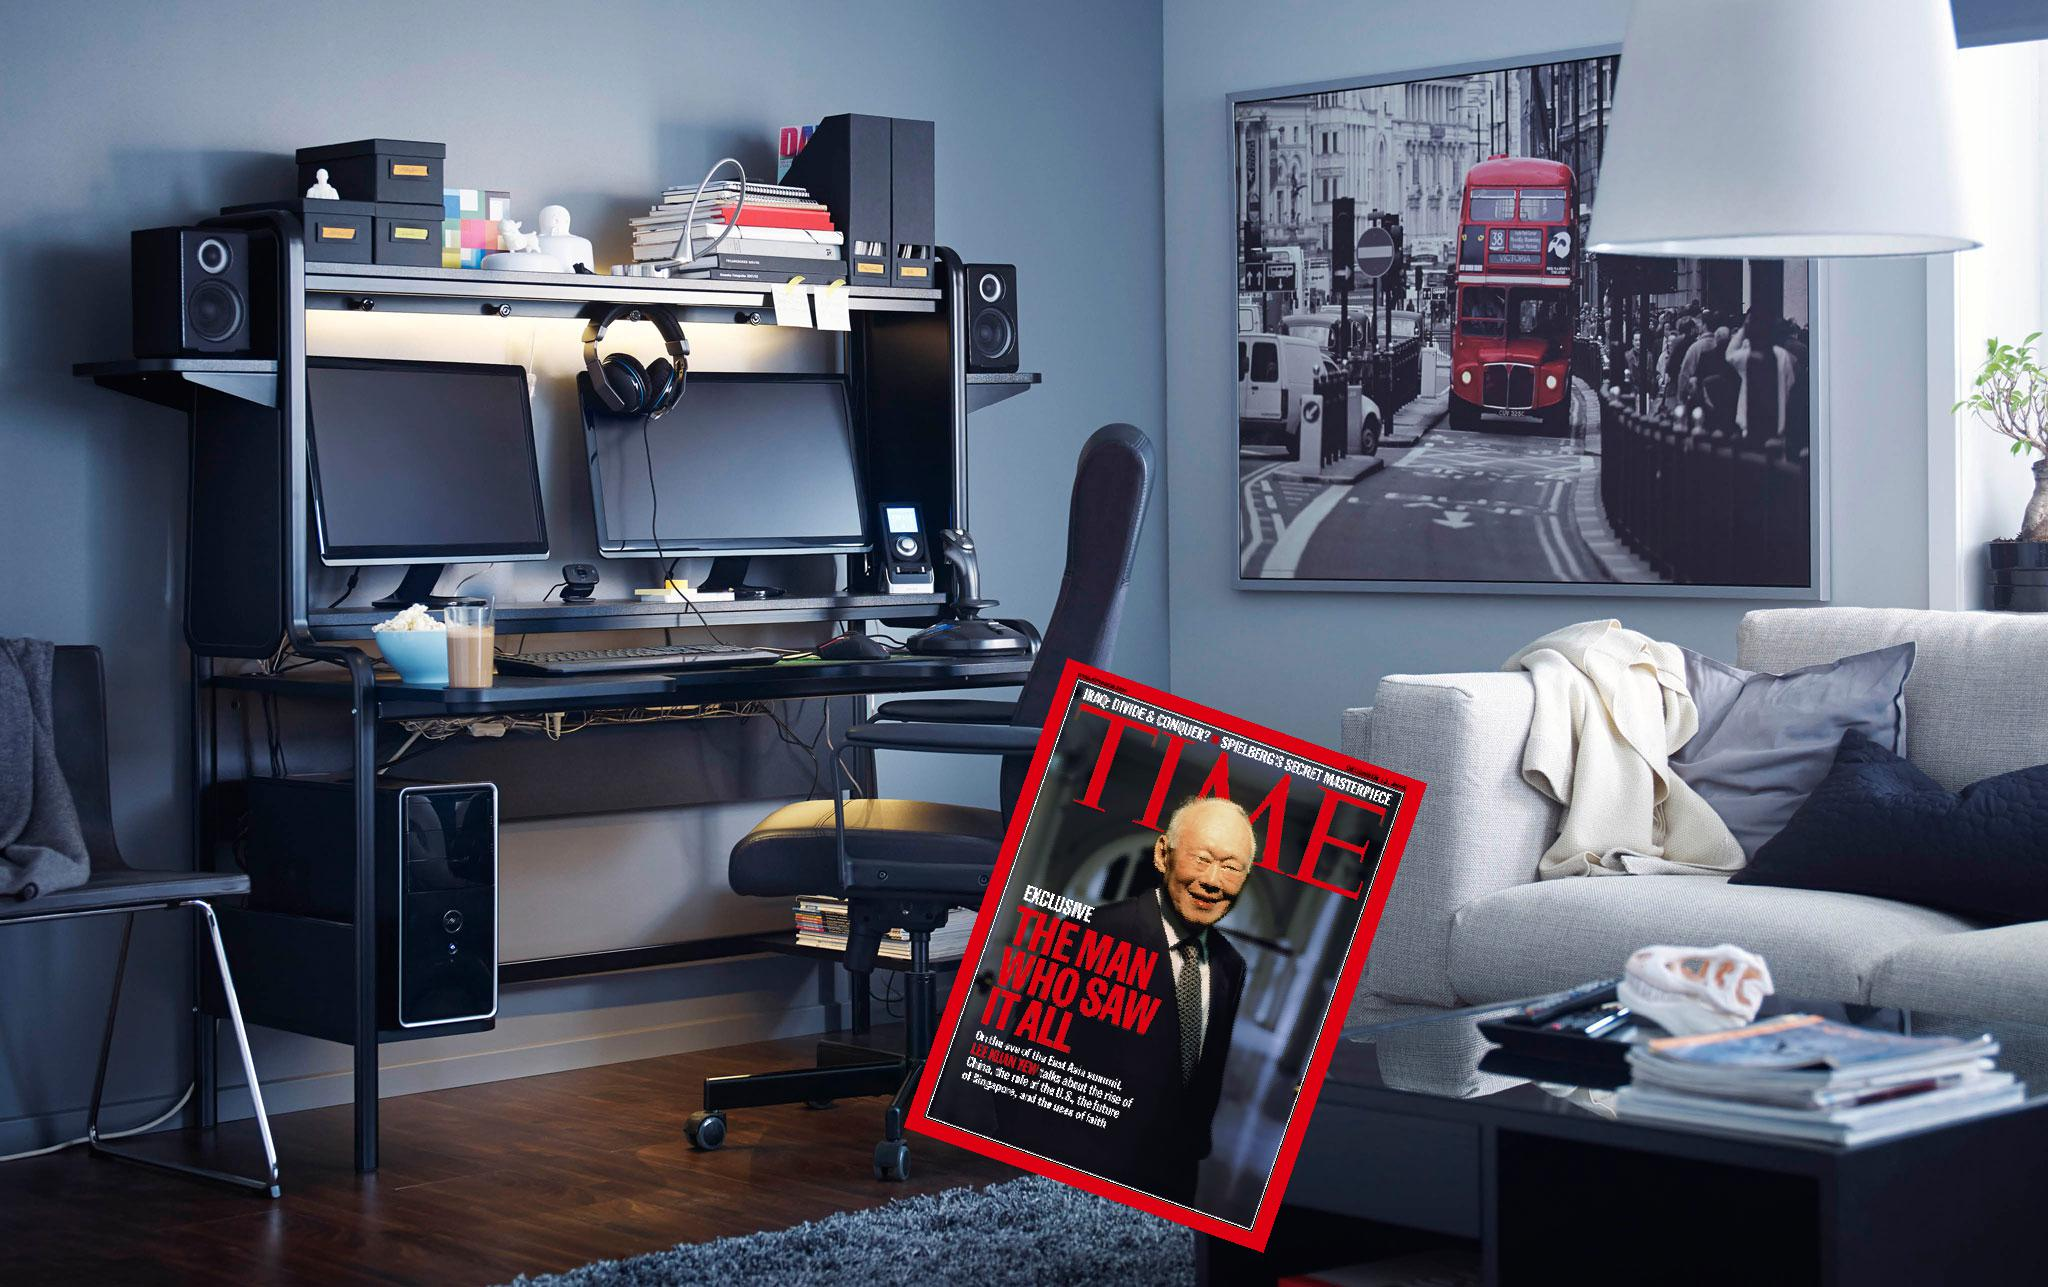times: (898, 658, 1432, 1254)
